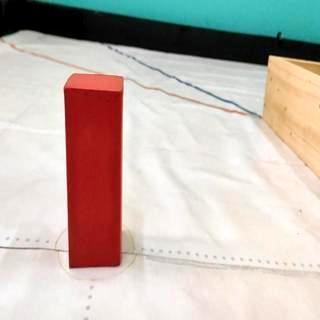redbox: (63, 72, 124, 271)
